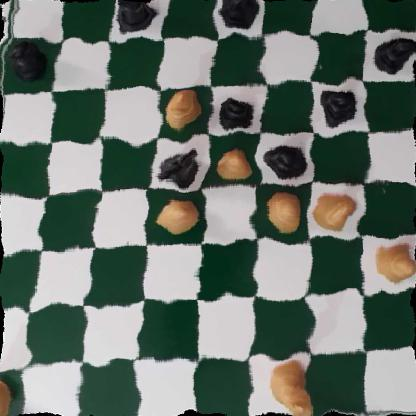black-king: (216, 0, 260, 35)
black-knight: (153, 144, 201, 186)
black-pawn: (266, 135, 309, 179), (5, 44, 52, 81), (373, 35, 415, 76), (316, 86, 359, 125), (215, 95, 255, 132)
black-rook: (111, 0, 160, 32)
white-bishop: (161, 85, 202, 132)
white-king: (259, 354, 312, 416)
white-pawn: (314, 187, 356, 233), (206, 144, 255, 181), (373, 240, 416, 282), (156, 193, 200, 234), (261, 190, 303, 231)
white-rook: (0, 374, 17, 416)
